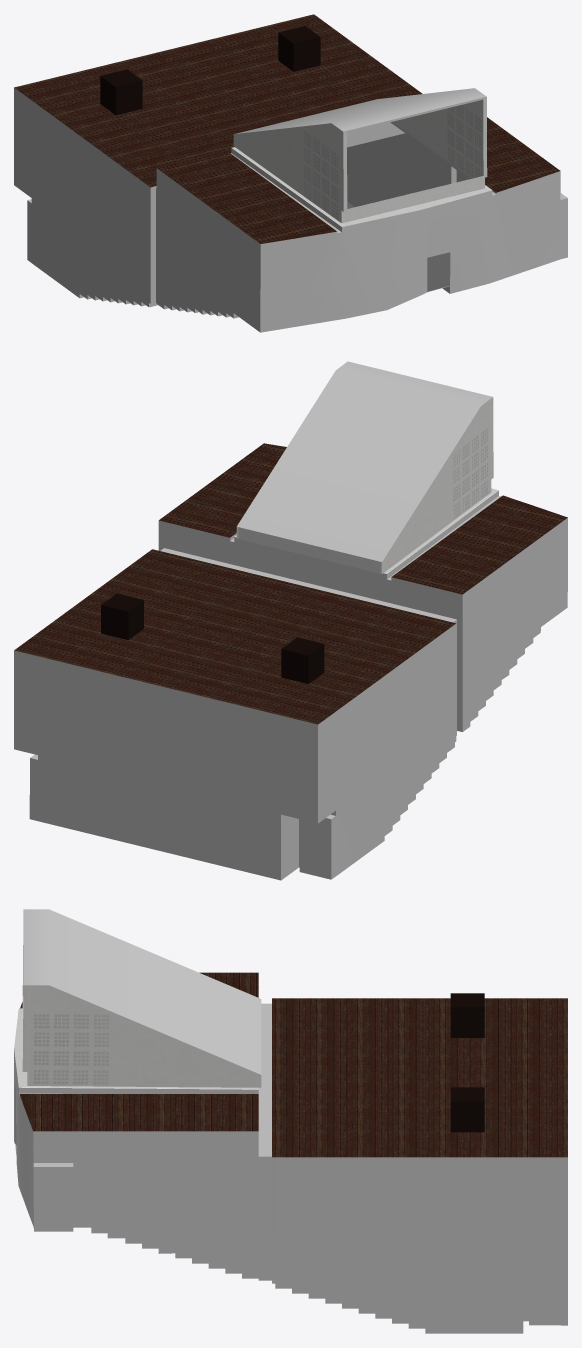
File: Amphicol 1.fbx
3 renders of one model, top to bottom at view 1: azimuth 30°, elevation 25°; view 2: azimuth 150°, elevation 25°; view 3: azimuth 270°, elevation 25°, orthographic. The views are drawn at different scales.
Visible parts, largest first — view 1: AmphiCol; view 2: AmphiCol; view 3: AmphiCol.
Part boxes in pixels (x1=…): AmphiCol: x1=14, y1=14, x2=567, y2=332; AmphiCol: x1=14, y1=361, x2=567, y2=880; AmphiCol: x1=14, y1=909, x2=567, y2=1333.
Bounding box in the file's own units: 1141 × 1004 × 1641.
